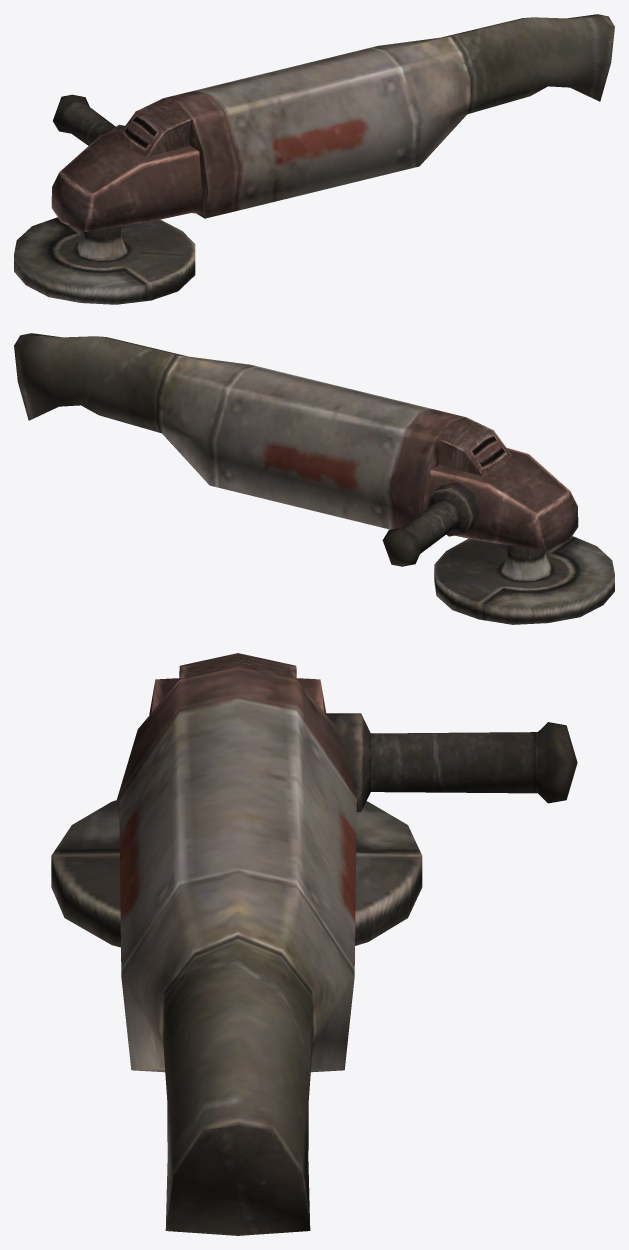
File: workshop_tool_saw.dae
The picture shows the model from 3 angles, top to bottom: view 1: azimuth 30°, elevation 25°; view 2: azimuth 150°, elevation 25°; view 3: azimuth 270°, elevation 25°; orthographic projection. The views are drawn at different scales.
Parts seen in each view (by area): view 1: workshop_tool_03; view 2: workshop_tool_03; view 3: workshop_tool_03.
Part boxes in pixels (x1,y1,x2,y2): workshop_tool_03: [14, 14, 614, 304]; workshop_tool_03: [14, 333, 614, 624]; workshop_tool_03: [51, 653, 577, 1235].
Size of the model in its own units: 1.02 by 0.2456 by 0.3993.
